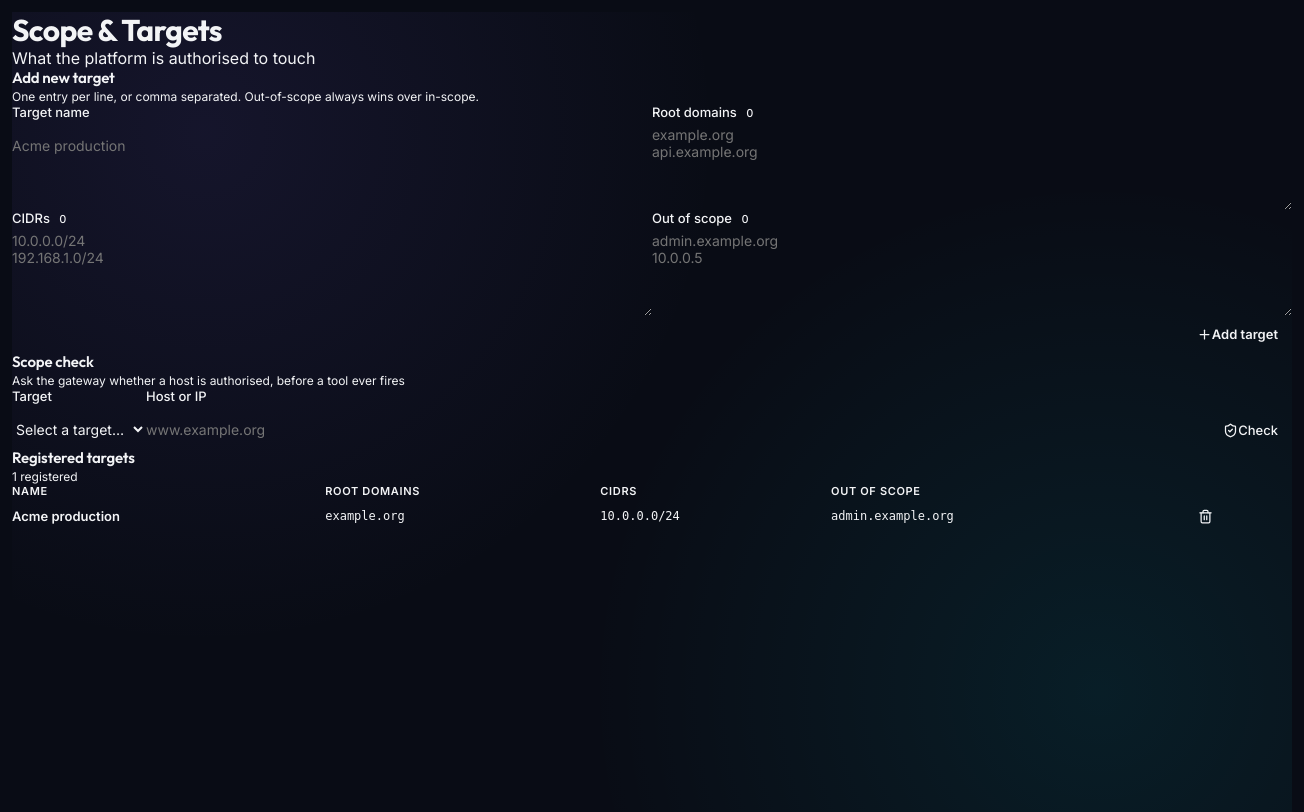
Test: scope check › reports an out-of-scope host
Expected: the table is shown, [12, 484, 1292, 534]
Select "Acme production" in the dropdown labelled "Target" at (79, 429), box [12, 410, 146, 448]
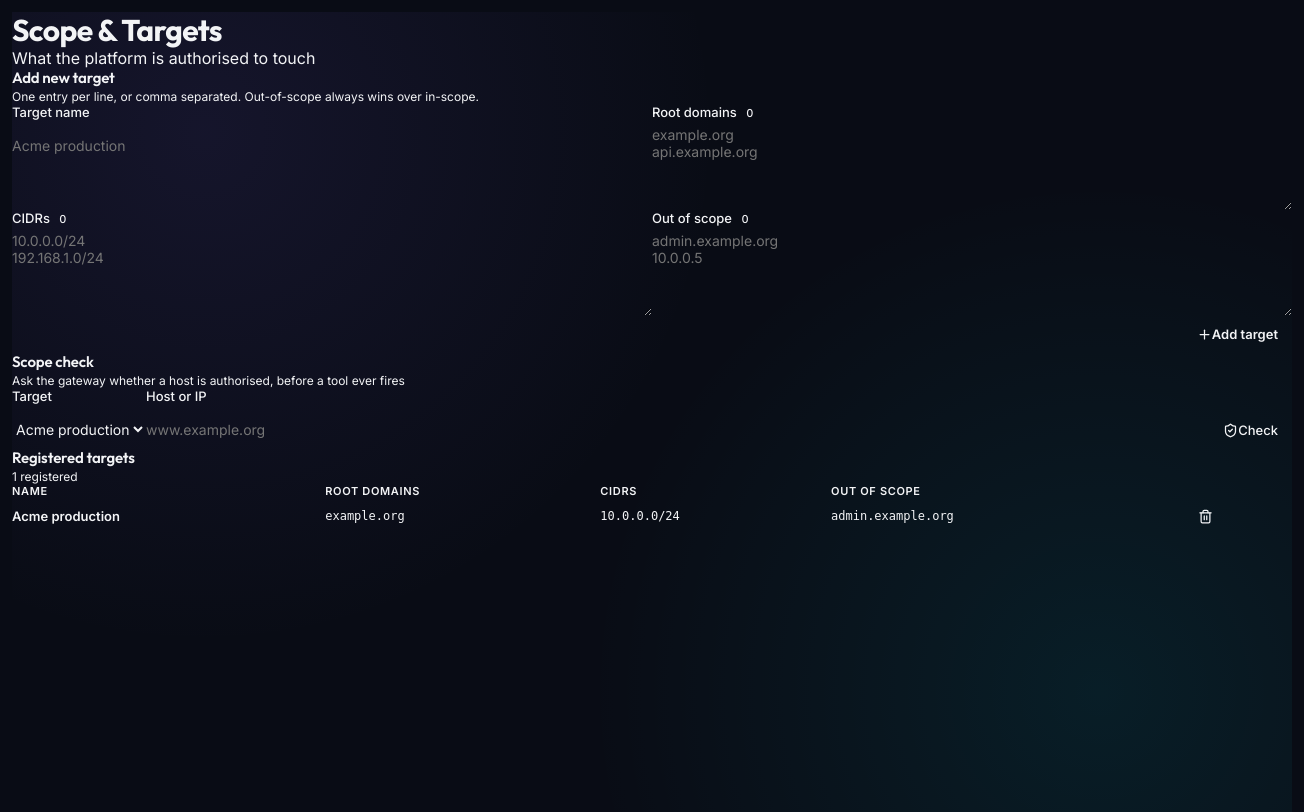
Type "evil.com" into the field labelled "Host or IP" at (678, 429), box [146, 410, 1209, 448]
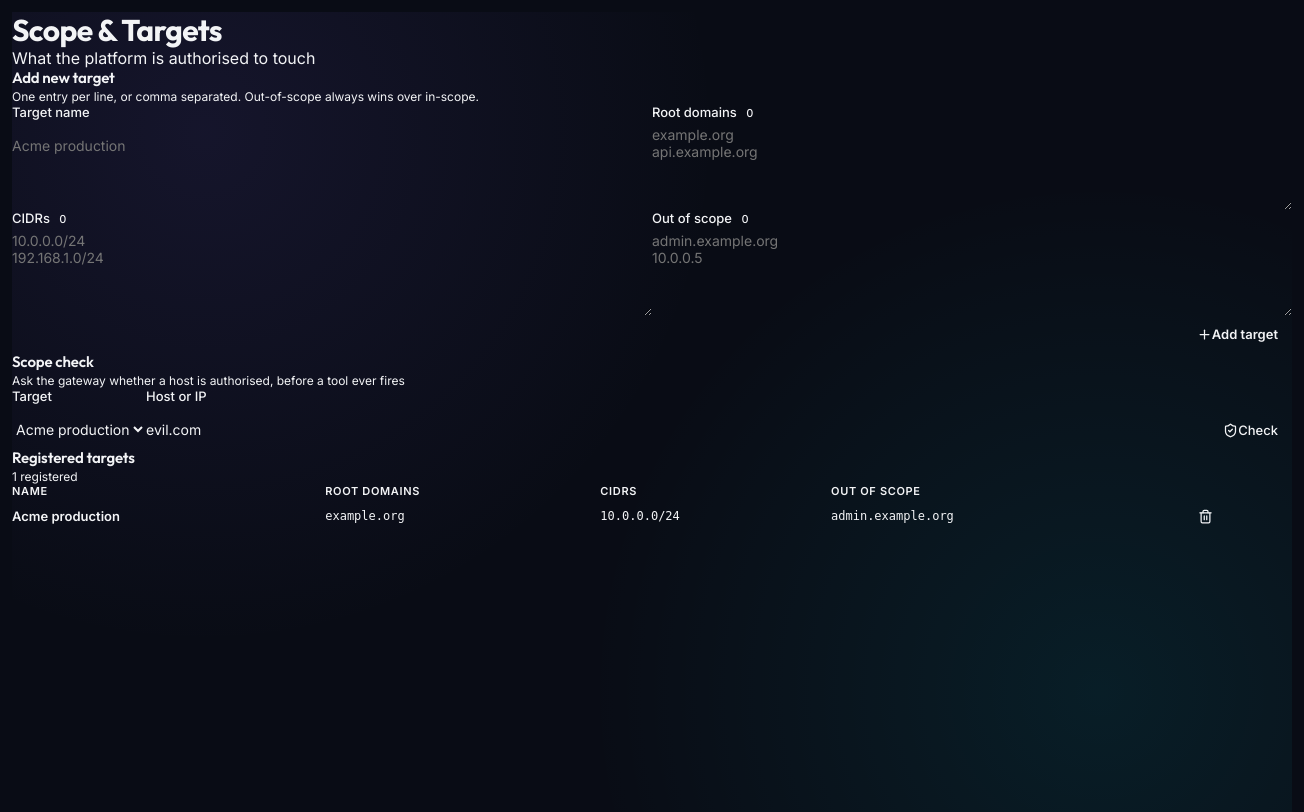
Click the button "Check" at (1251, 430), box [1209, 412, 1292, 448]
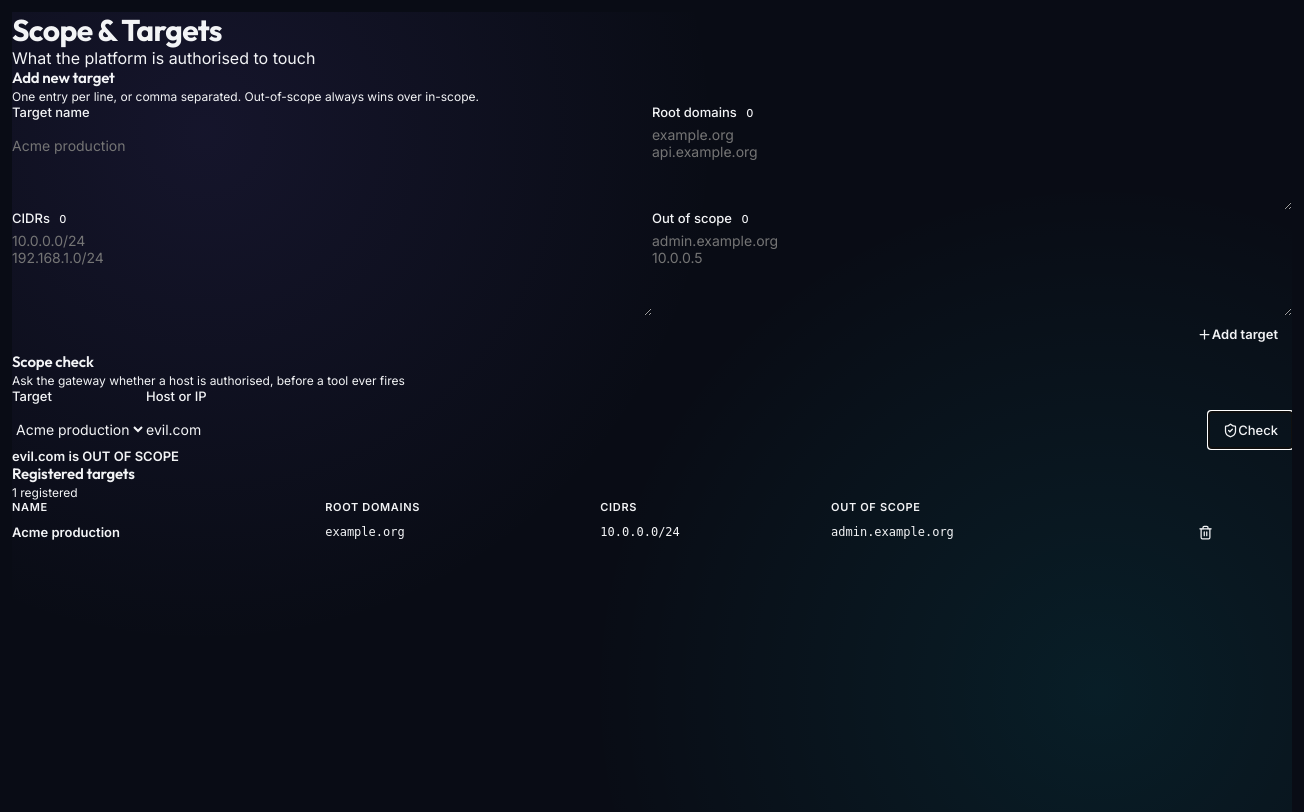
Result: the text "evil.com is OUT OF SCOPE" is shown at [12, 448, 179, 464]
